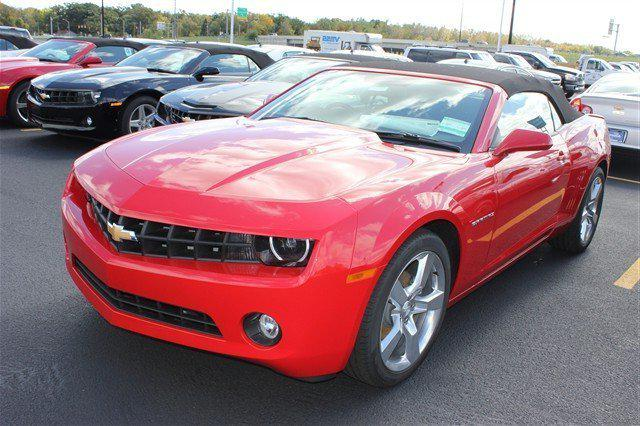Car: (25, 58, 631, 405), (20, 39, 281, 145)
